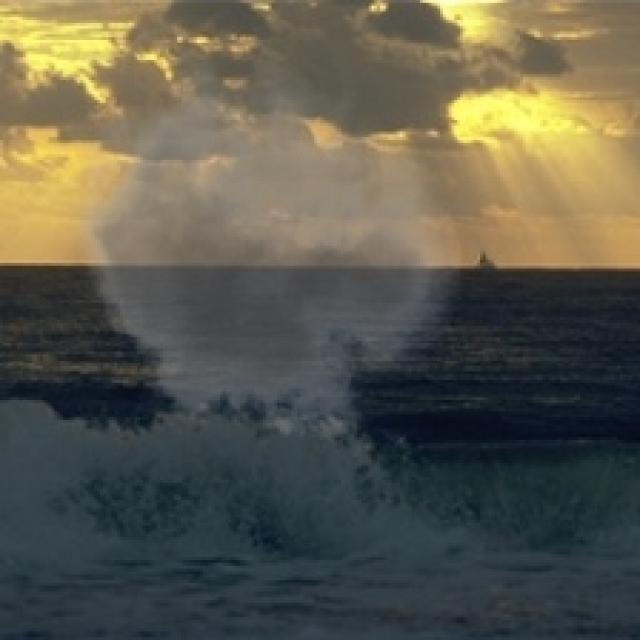Smoke: (60, 49, 463, 458)
